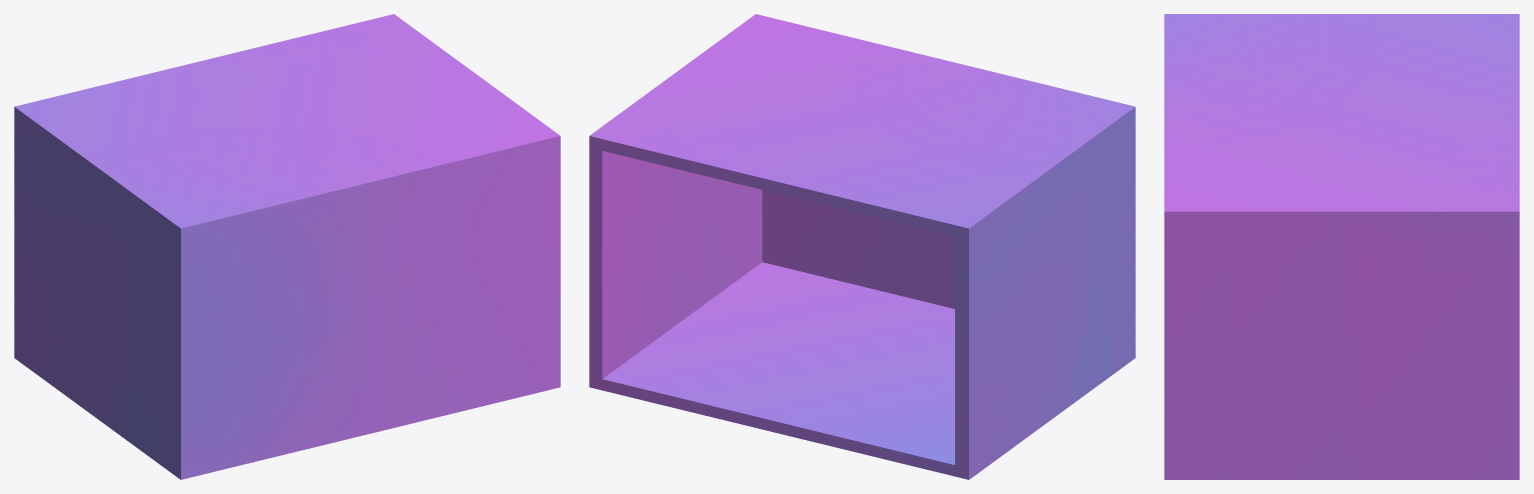
File: my_room.fbx
The picture shows the model from 3 angles, left to right: view 1: azimuth 30°, elevation 25°; view 2: azimuth 150°, elevation 25°; view 3: azimuth 270°, elevation 25°; orthographic projection. The views are drawn at different scales.
Visible parts, largest first — view 1: Box026; view 2: Box026; view 3: Box026.
Part boxes in pixels (x1,y1,x2,y2): Box026: [14, 14, 560, 479]; Box026: [589, 14, 1135, 479]; Box026: [1164, 14, 1519, 479].
Size of the model in its own units: 1001 by 633 by 760.
1 material, 1 textured.
